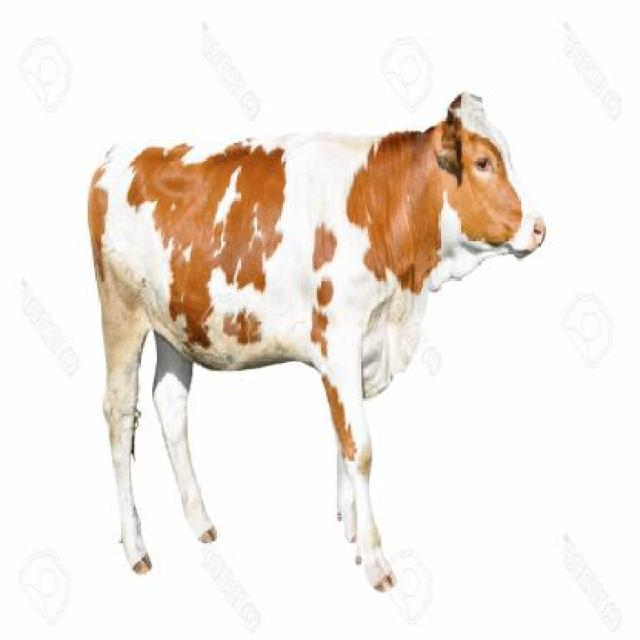Cow: (80, 92, 548, 597)
